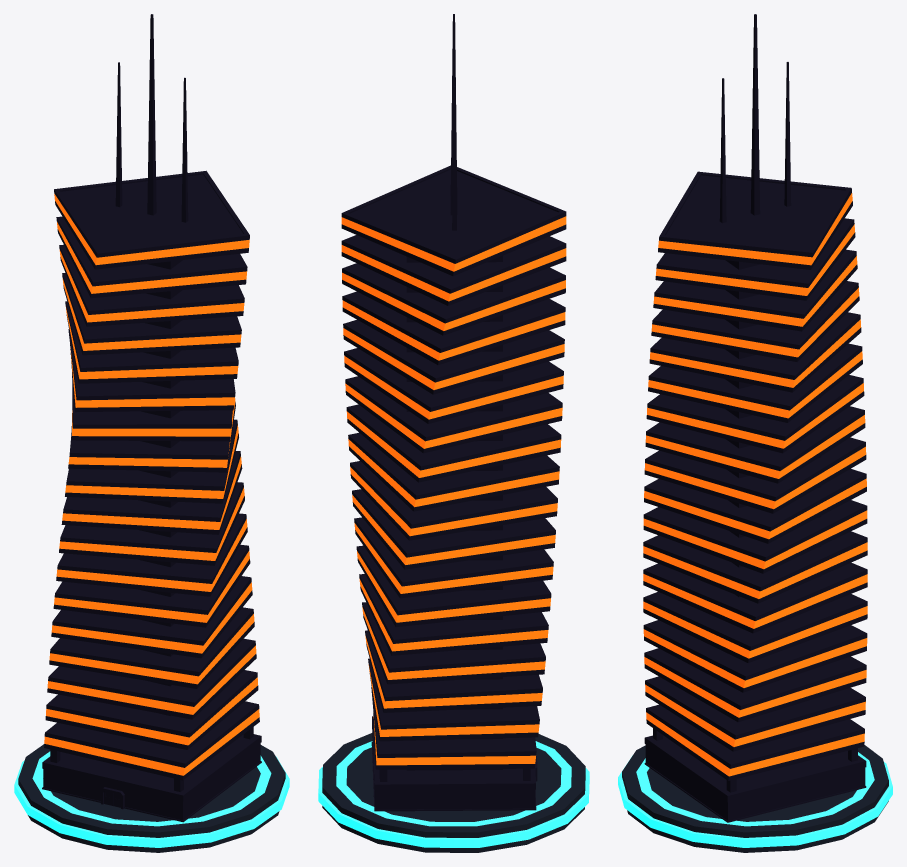
The model's file is House3.fbx.
3 views of the same model, side by side, from view 1: azimuth 30°, elevation 25°; view 2: azimuth 150°, elevation 25°; view 3: azimuth 270°, elevation 25° (orthographic).
Parts seen in each view (by area): view 1: House3; view 2: House3; view 3: House3.
Boxes of the visible parts, bbox=[...] form: House3: bbox=[14, 14, 289, 852]; House3: bbox=[318, 14, 589, 852]; House3: bbox=[618, 14, 892, 852].
Bounding box in the file's own units: 3435 × 10939 × 3435.
